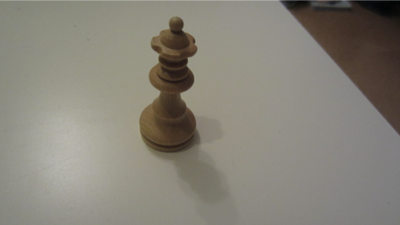white-queen: (139, 16, 201, 154)
